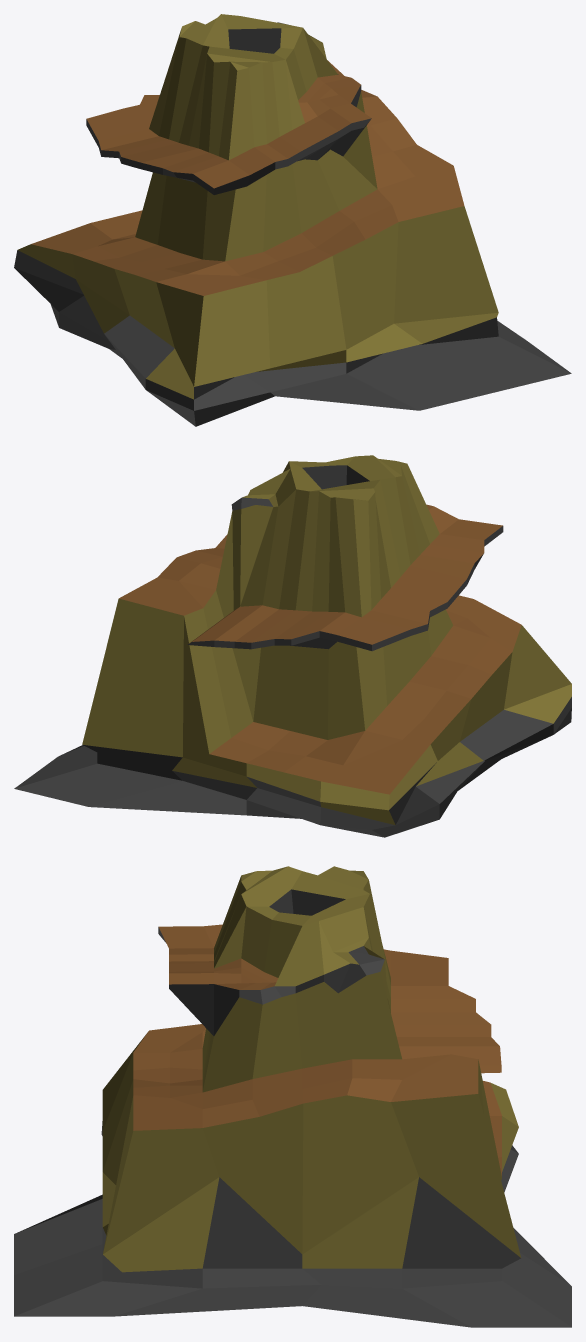
Rendered from M3Rock2.fbx.
The picture shows the model from 3 angles, top to bottom: view 1: azimuth 30°, elevation 25°; view 2: azimuth 150°, elevation 25°; view 3: azimuth 270°, elevation 25°; orthographic projection. The views are drawn at different scales.
Visible parts, largest first — view 1: Cube.001; view 2: Cube.001; view 3: Cube.001.
Boxes of the visible parts, x1,y1,x2,y2 form: Cube.001: [14, 14, 571, 426]; Cube.001: [14, 455, 571, 837]; Cube.001: [14, 866, 571, 1327].
Bounding box in the file's own units: 15159 × 11199 × 17708.
